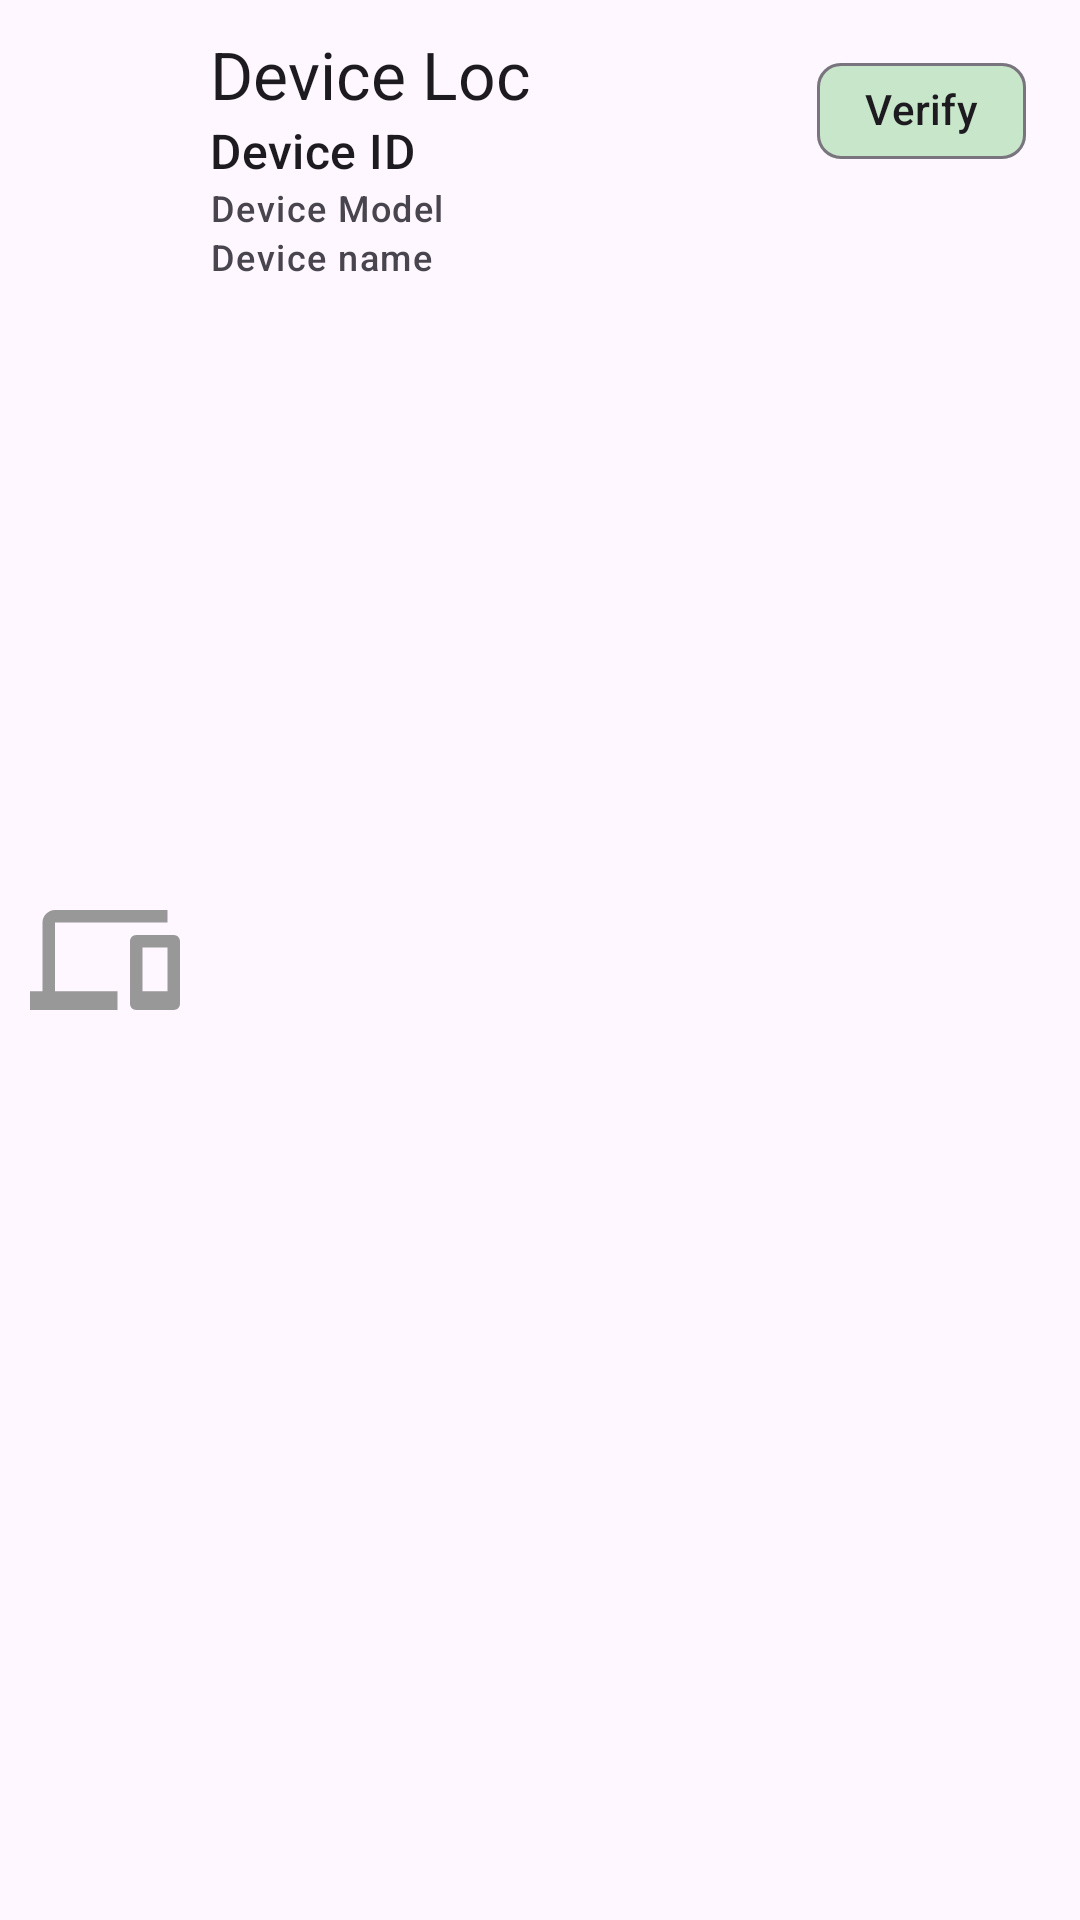

Point at icon controls on the screen. Image size 1080px×1920px, points as point (x, y).
devices: point (105, 960)
